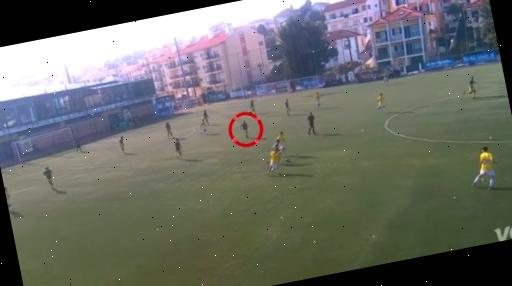highlight_overlay: (224, 108, 272, 152)
